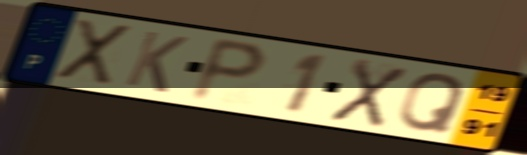1: (278, 51, 331, 115)
K: (121, 28, 192, 96)
P: (185, 35, 270, 105)
Q: (395, 71, 469, 137)
X: (325, 56, 412, 130), (53, 16, 135, 88)
